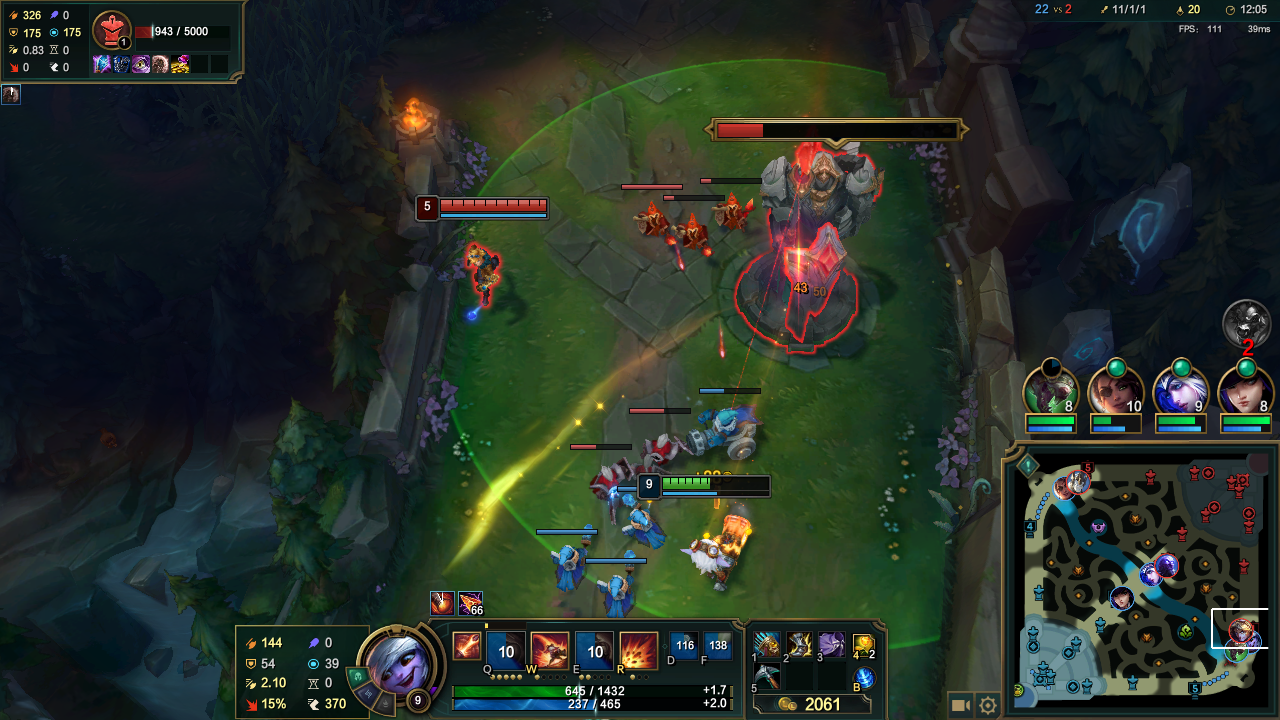DFFYT: (708, 119, 893, 351)
DFXB: (579, 449, 641, 501), (633, 420, 687, 479), (704, 187, 760, 239), (631, 195, 675, 243), (666, 213, 710, 259)
DFYX: (442, 197, 505, 221)
WFXB: (679, 403, 764, 464), (588, 547, 645, 616), (545, 525, 597, 596), (616, 505, 673, 548)
Yita: (1187, 672, 1202, 697)
